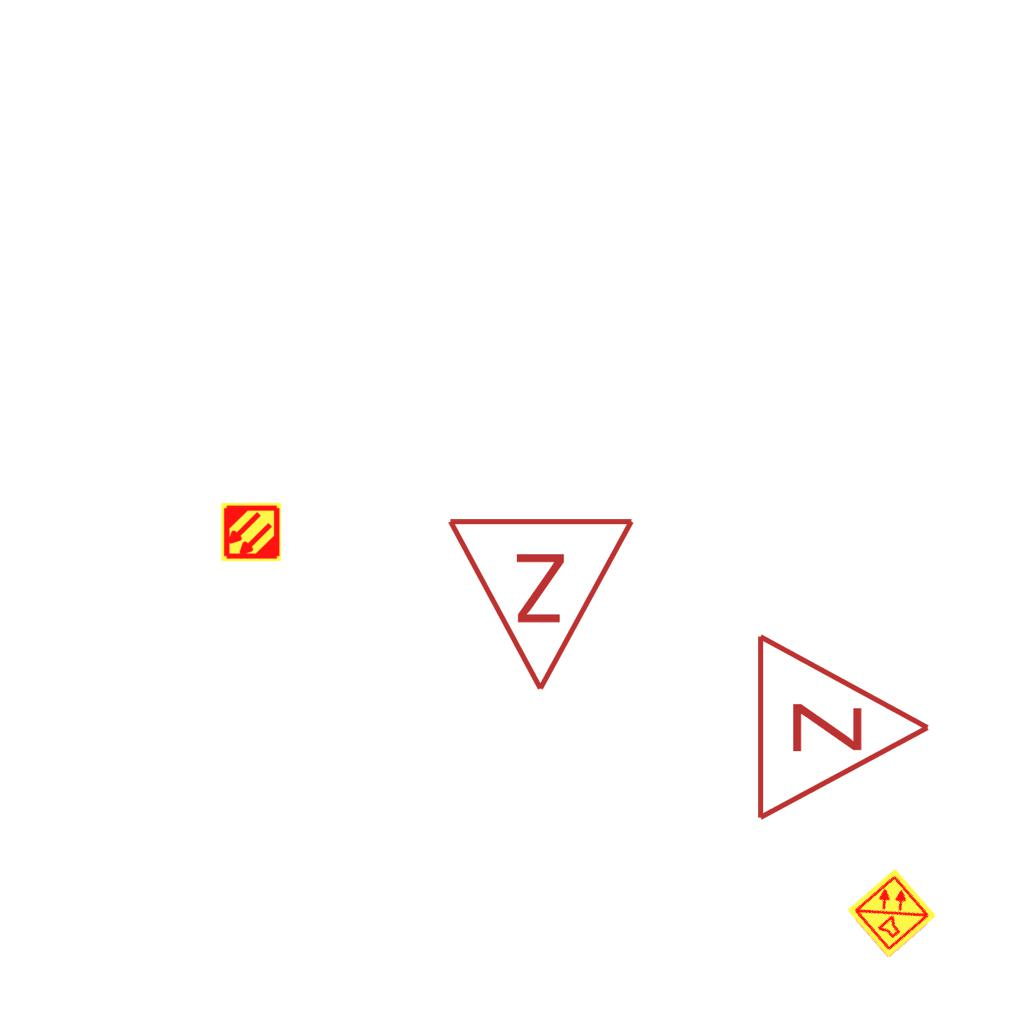ASR_Ansaugrauchmelder: (220, 501, 282, 563)
OKW_Multisensormelder_(Kombination_optischer_Rauch-Kahlenmonoxid_Waerme-Melder): (845, 866, 939, 960)
Zimmersignalleuchte: (743, 627, 943, 823), (445, 504, 641, 704)
